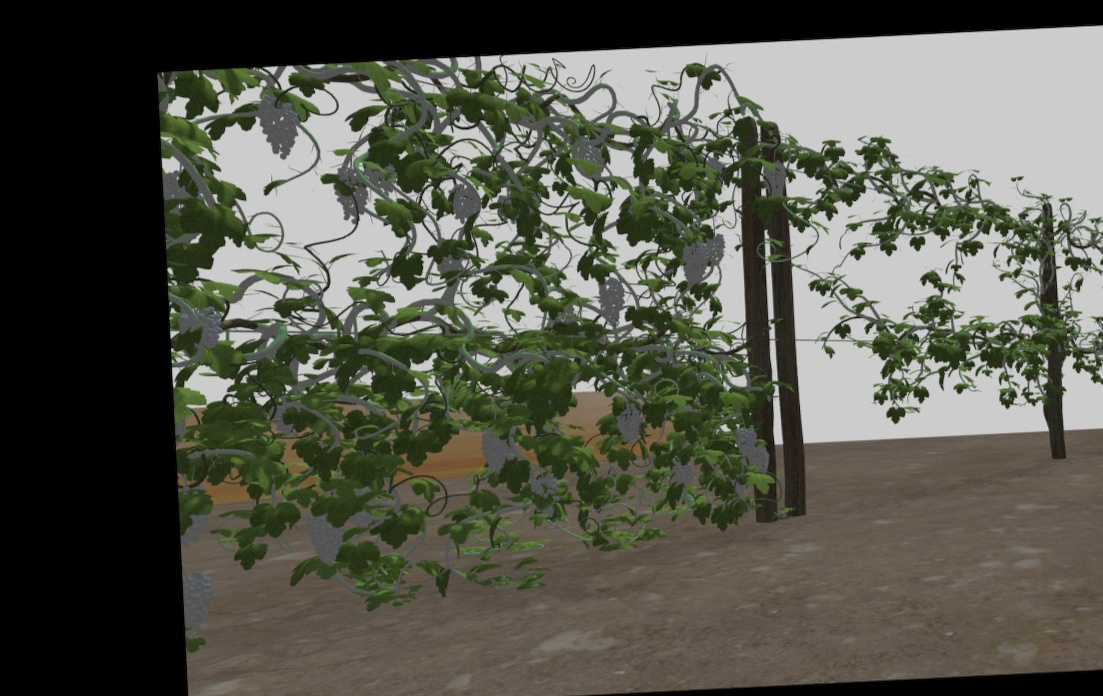grape: (259, 98, 298, 159), (179, 307, 222, 359), (309, 509, 345, 566), (185, 569, 216, 631), (335, 165, 367, 223), (480, 429, 510, 477), (682, 241, 709, 287), (599, 277, 626, 321), (366, 162, 398, 197), (450, 185, 479, 223), (616, 403, 642, 444), (762, 162, 787, 196), (529, 471, 559, 498), (748, 445, 770, 476), (704, 235, 727, 264), (736, 424, 756, 457), (672, 461, 695, 488)
